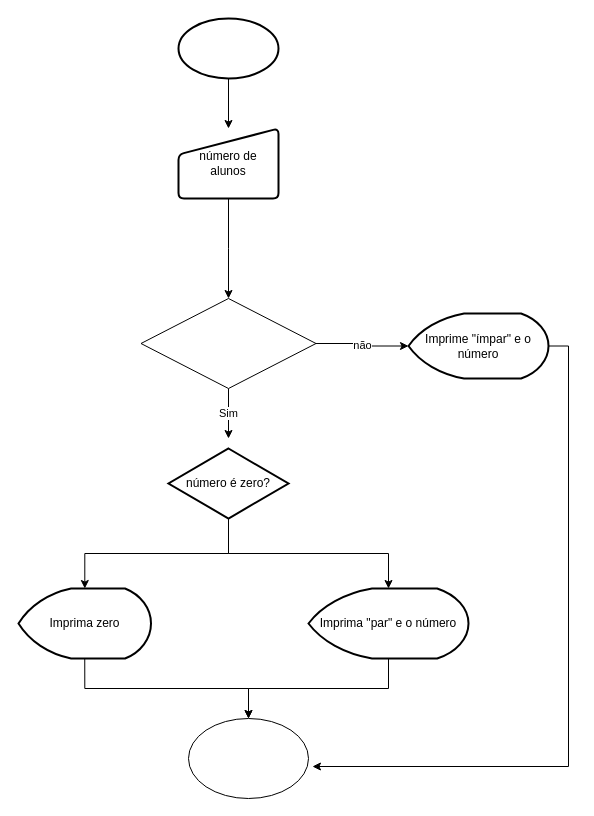
The diagram is 594 pixels wide and 816 high, and some of its shapes have lost their labels. The box of each missing label's shape, as (x1, y1, x2, y2) in pixels:
Fim: (188, 718, 308, 798)
Inicio: (177, 17, 279, 79)
número é par: (140, 298, 316, 388)
